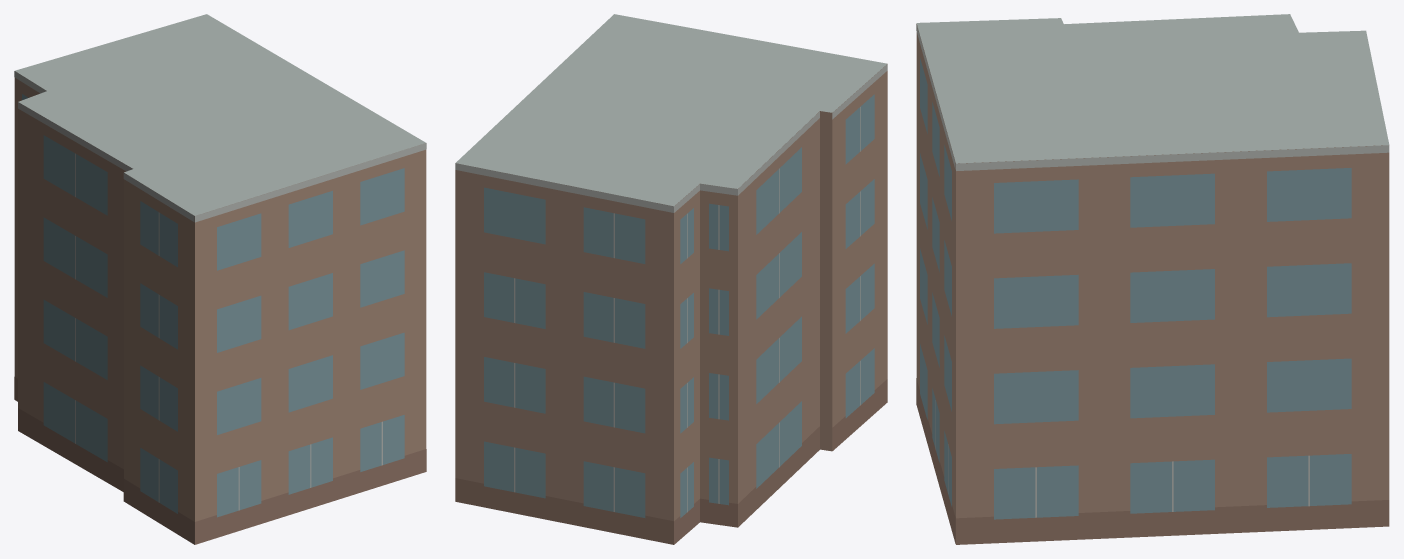
The model's file is survey-upis-32888328.glb.
The picture shows the model from 3 angles, left to right: view 1: azimuth 30°, elevation 25°; view 2: azimuth 150°, elevation 25°; view 3: azimuth 270°, elevation 25°; orthographic projection. The views are drawn at different scales.
Visible parts, largest first — view 1: survey-upis-32888328.tmp; view 2: survey-upis-32888328.tmp; view 3: survey-upis-32888328.tmp.
Part boxes in pixels (x1,y1,x2,y2): survey-upis-32888328.tmp: [14, 14, 426, 544]; survey-upis-32888328.tmp: [455, 14, 887, 544]; survey-upis-32888328.tmp: [916, 14, 1389, 544].
Size of the model in its own units: 10.27 by 12.2 by 13.72.
